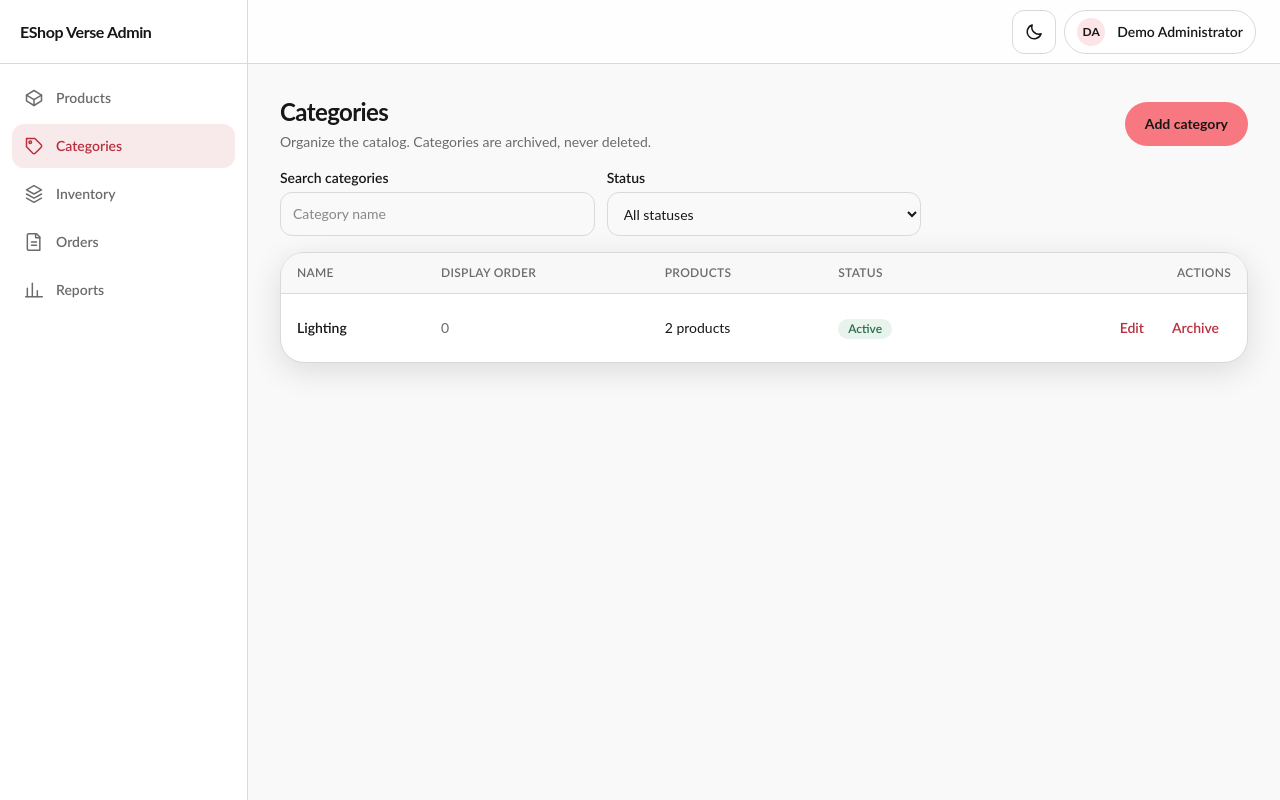
Scenario: CategoriesPage (A-04) › archive_category_reports_blocking_products
The width and height of the screenshot is (1280, 800).
Click the button with aria-label "Archive Lighting" at (1195, 328), box x1=1160 y1=306 x2=1231 y2=350
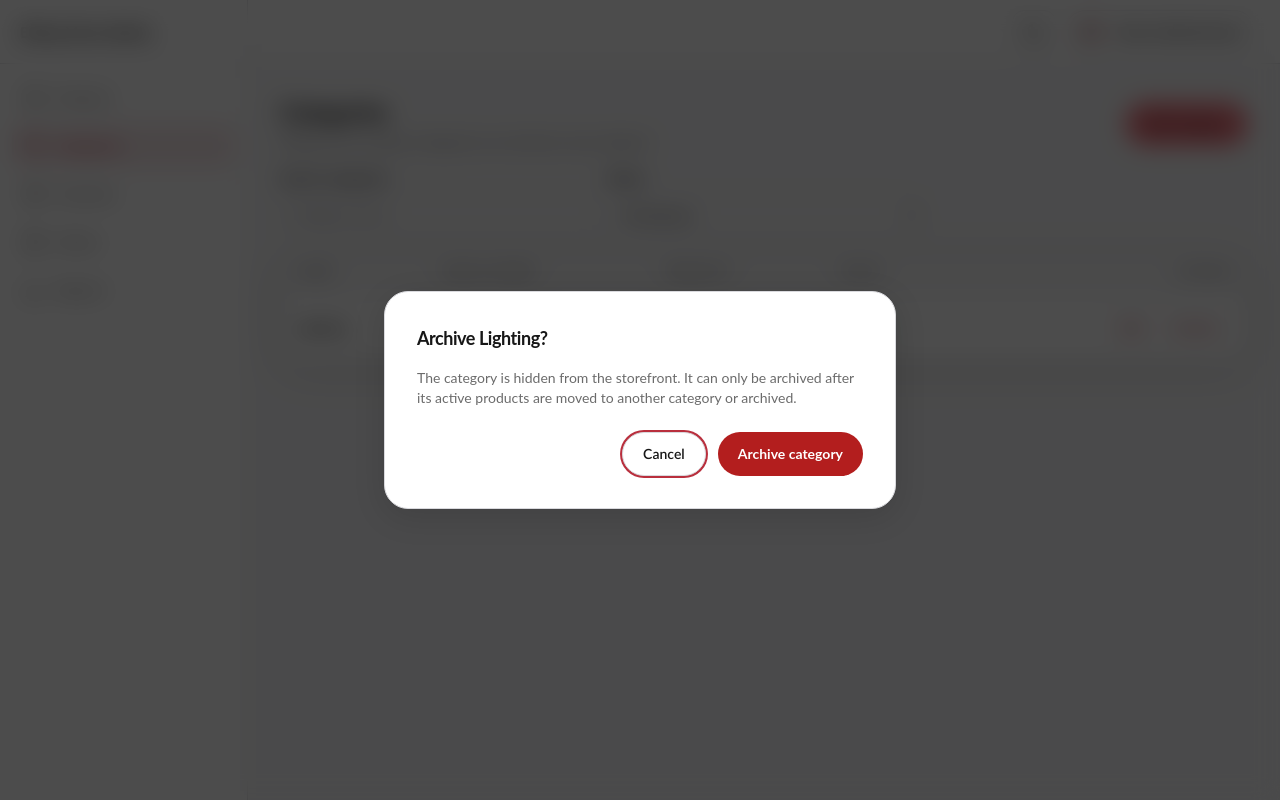
Click the button "Archive category" at (790, 454), box x1=718 y1=432 x2=863 y2=476
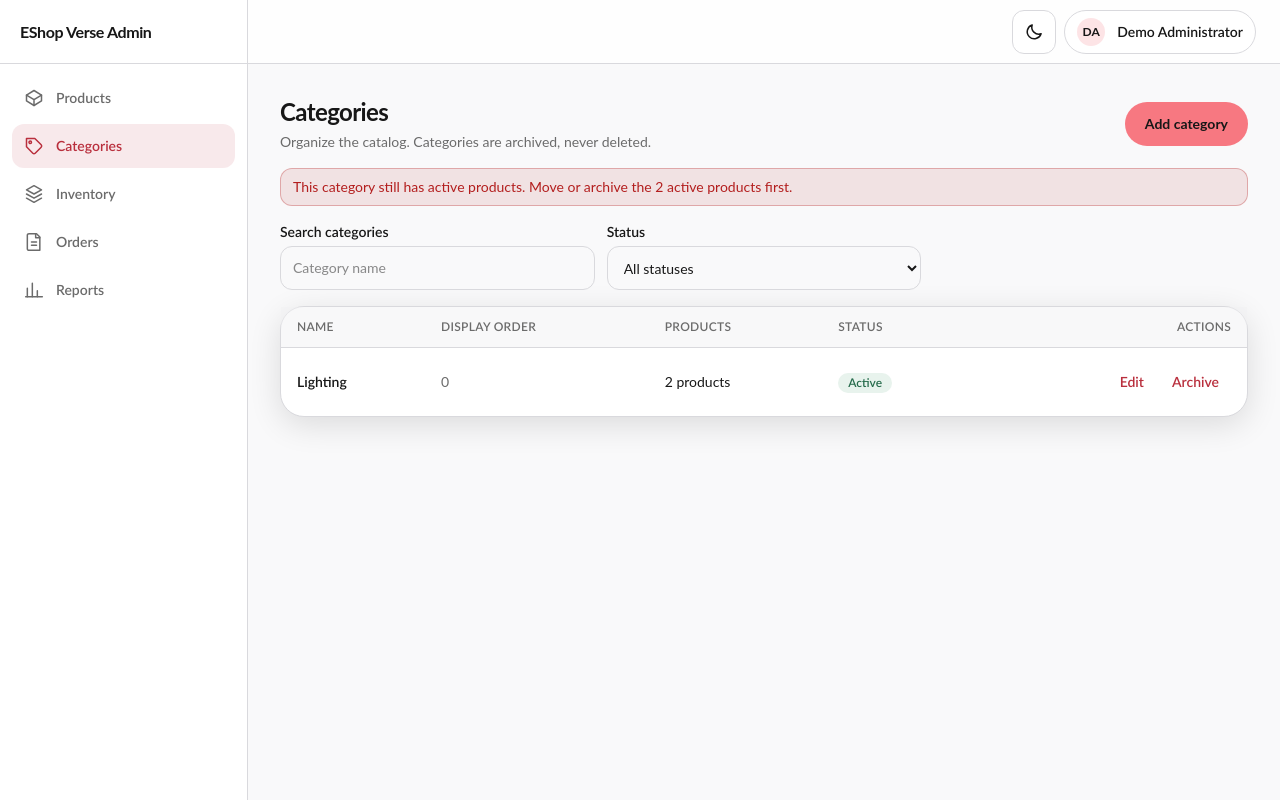
Expected: the text "This category still has active products. Move or archive the 2 active products first." is shown, x1=293 y1=178 x2=792 y2=195
